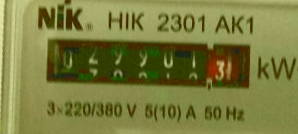0: (158, 44, 174, 70), (57, 47, 73, 70)
1: (185, 45, 198, 70)
2: (83, 43, 99, 66)
3: (210, 58, 226, 82)
9: (134, 46, 147, 69), (109, 44, 122, 65)
screen: (35, 29, 258, 99)
